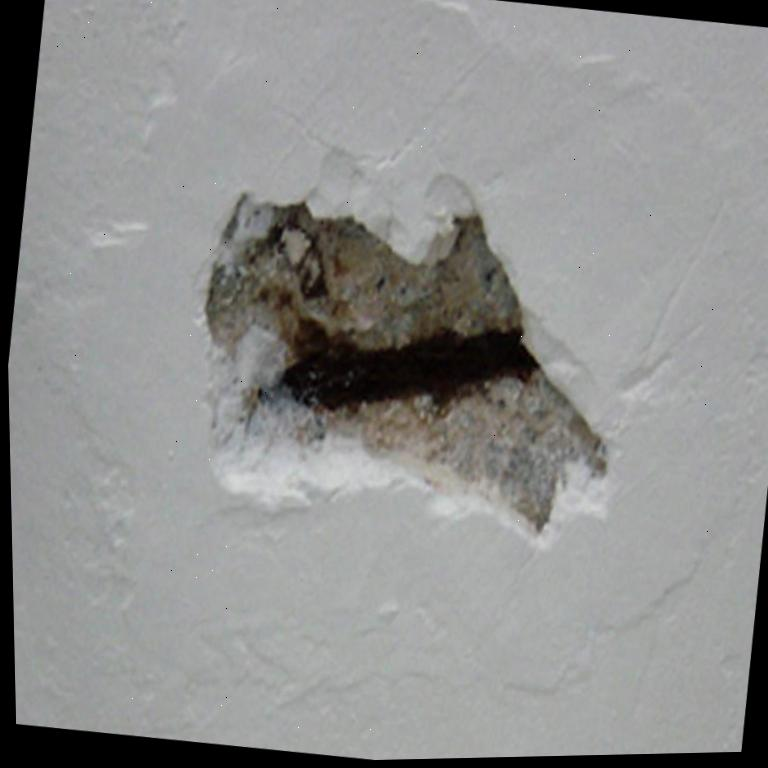exposed_rebar: (282, 328, 538, 409)
spalling: (205, 195, 605, 529)
